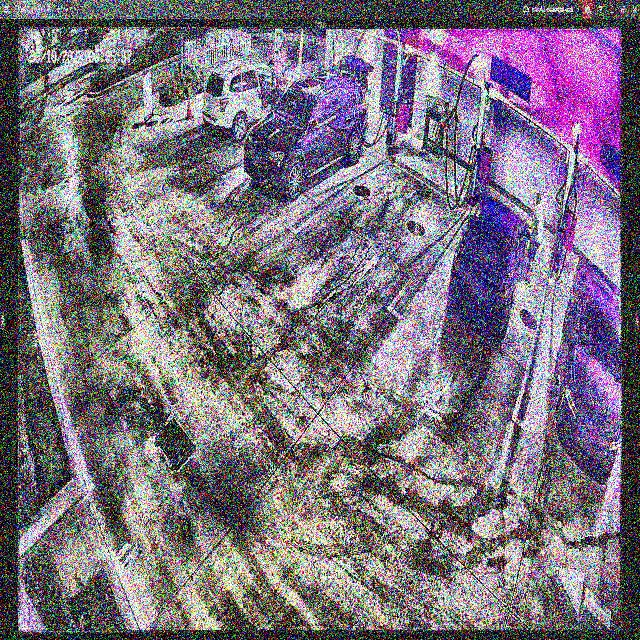Car: (244, 56, 372, 201), (450, 192, 530, 340)
